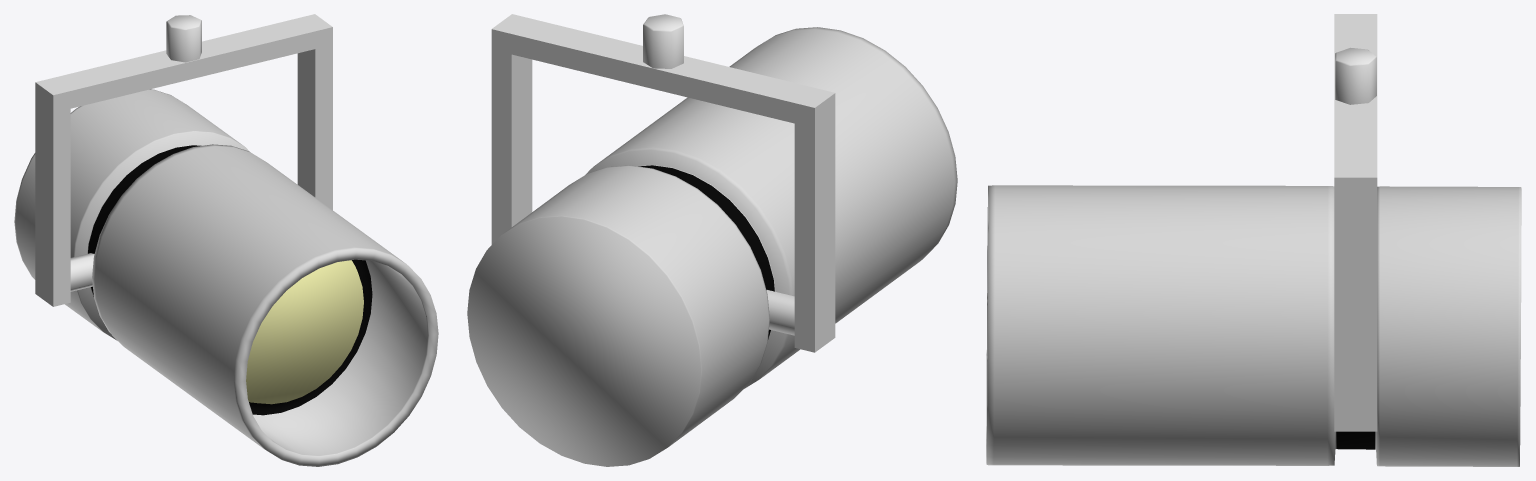
File: Light fixtures.fbx
3 renders of one model, left to right at view 1: azimuth 30°, elevation 25°; view 2: azimuth 150°, elevation 25°; view 3: azimuth 270°, elevation 25°, orthographic. The views are drawn at different scales.
Parts seen in each view (by area): view 1: Body, Arms; view 2: Body, Arms; view 3: Body, Arms.
Boxes of the visible parts, bbox=[...] form: Body: bbox=[14, 89, 438, 466]; Arms: bbox=[35, 14, 332, 306]; Body: bbox=[467, 27, 957, 466]; Arms: bbox=[491, 14, 835, 352]; Body: bbox=[986, 185, 1521, 466]; Arms: bbox=[1334, 14, 1377, 431].
Bounding box in the file's own units: 276 × 313 × 382.
